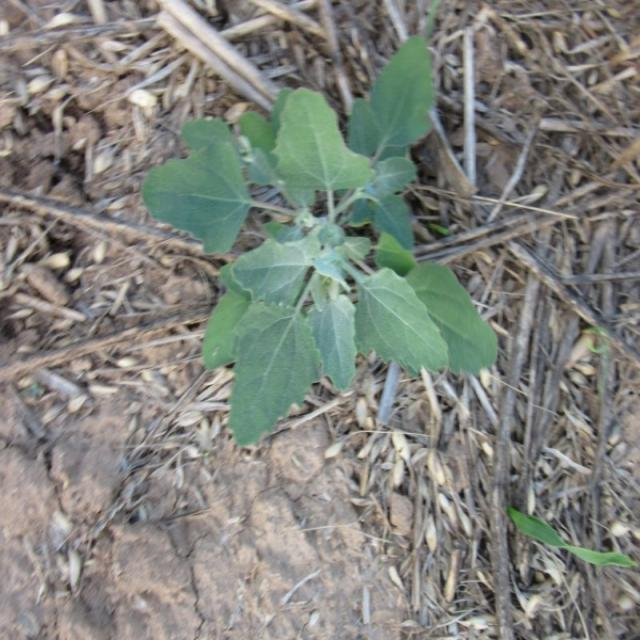ca: (144, 46, 489, 436)
